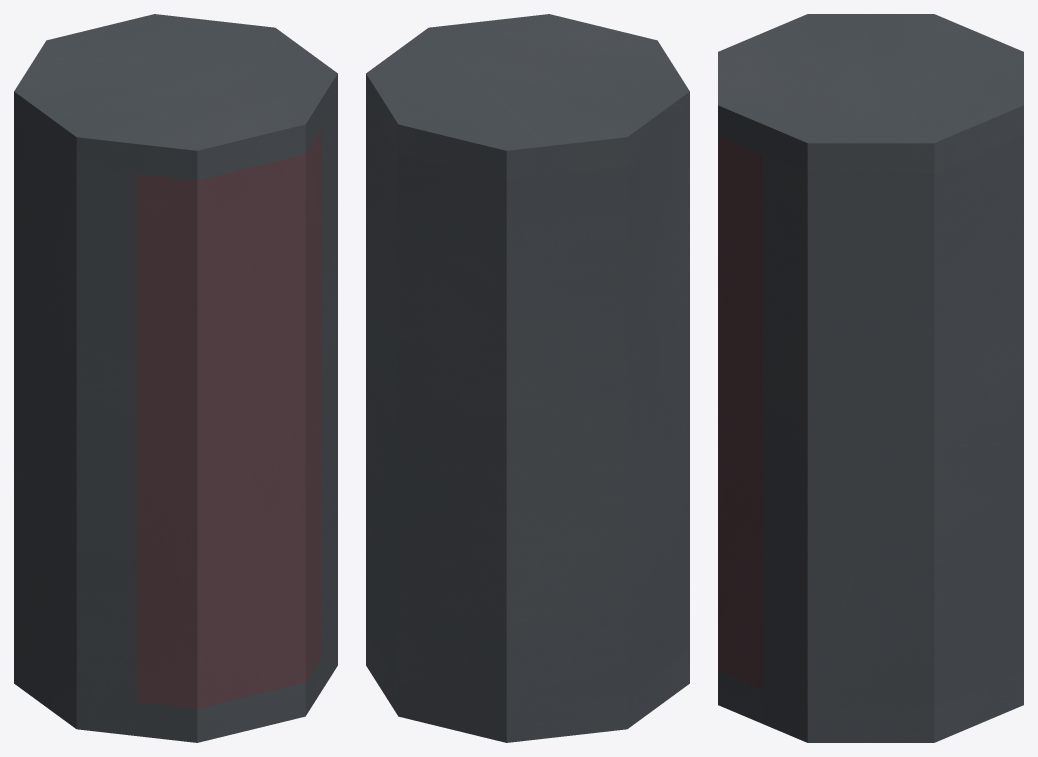
File: SCPCage_closed.gltf
3 renders of one model, left to right at view 1: azimuth 30°, elevation 25°; view 2: azimuth 150°, elevation 25°; view 3: azimuth 270°, elevation 25°, orthographic.
Visible parts, largest first — view 1: Cage, Cage.001; view 2: Cage; view 3: Cage, Cage.001.
Boxes of the visible parts, box(x1,y1,x2,y2) form: Cage: box(14, 14, 337, 742); Cage.001: box(137, 129, 321, 708); Cage: box(366, 14, 689, 742); Cage: box(718, 14, 1023, 742); Cage.001: box(718, 135, 762, 689).
Size of the model in its own units: 1.48 by 3.2 by 1.48.
Materials: 2 (2 with a texture image).
